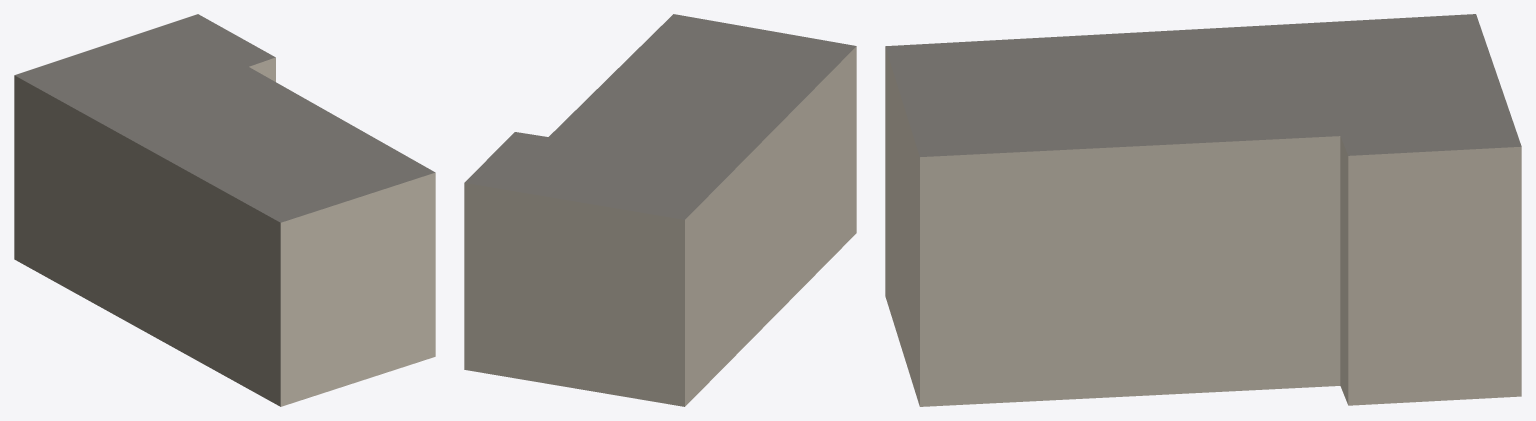
3 views of the same model, side by side, from view 1: azimuth 30°, elevation 25°; view 2: azimuth 150°, elevation 25°; view 3: azimuth 270°, elevation 25° (orthographic). The views are drawn at different scales.
Parts seen in each view (by area): view 1: HP-w446934753; view 2: HP-w446934753; view 3: HP-w446934753.
Part boxes in pixels (x1,y1,x2,y2): HP-w446934753: (14, 14, 435, 406); HP-w446934753: (464, 14, 856, 406); HP-w446934753: (885, 14, 1521, 406).
Bounding box in the file's own units: 18.44 × 15 × 34.64.
